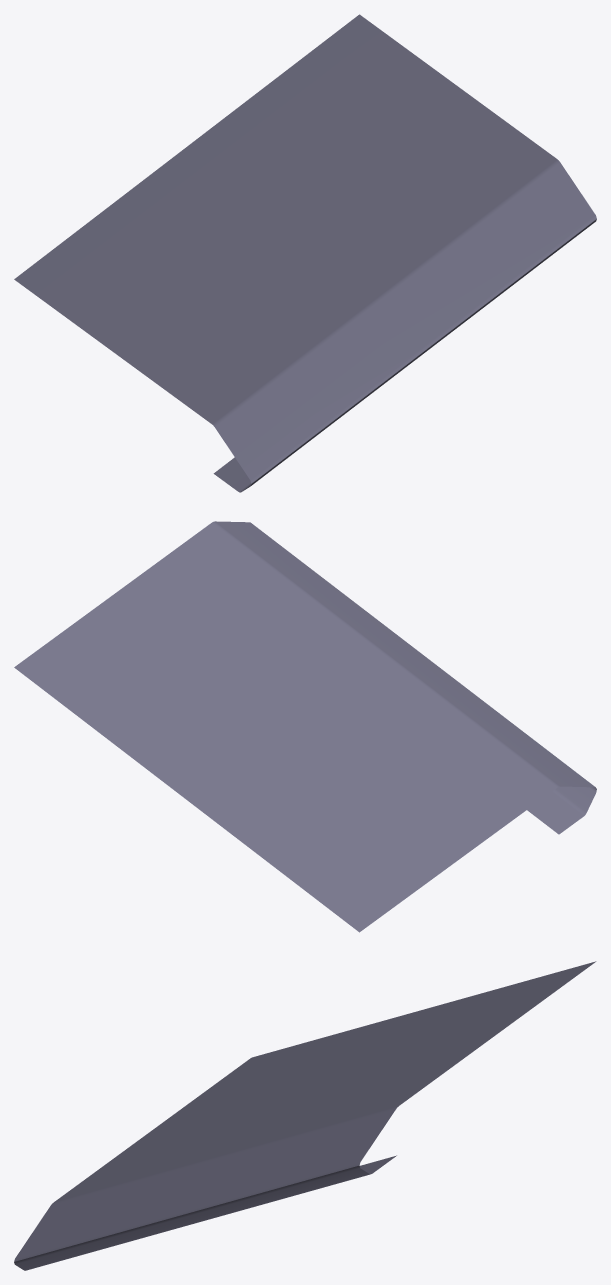
File: SM_RoofMR.fbx
3 views of the same model, one above another, from view 1: azimuth 30°, elevation 25°; view 2: azimuth 150°, elevation 25°; view 3: azimuth 330°, elevation 25° (orthographic).
Parts seen in each view (by area): view 1: modular_serious:pCube6; view 2: modular_serious:pCube6; view 3: modular_serious:pCube6.
Boxes of the visible parts, x1,y1,x2,y2 form: modular_serious:pCube6: [14, 14, 596, 492]; modular_serious:pCube6: [14, 521, 596, 932]; modular_serious:pCube6: [14, 961, 596, 1270].
Size of the model in its own units: 300 by 190 by 357.
